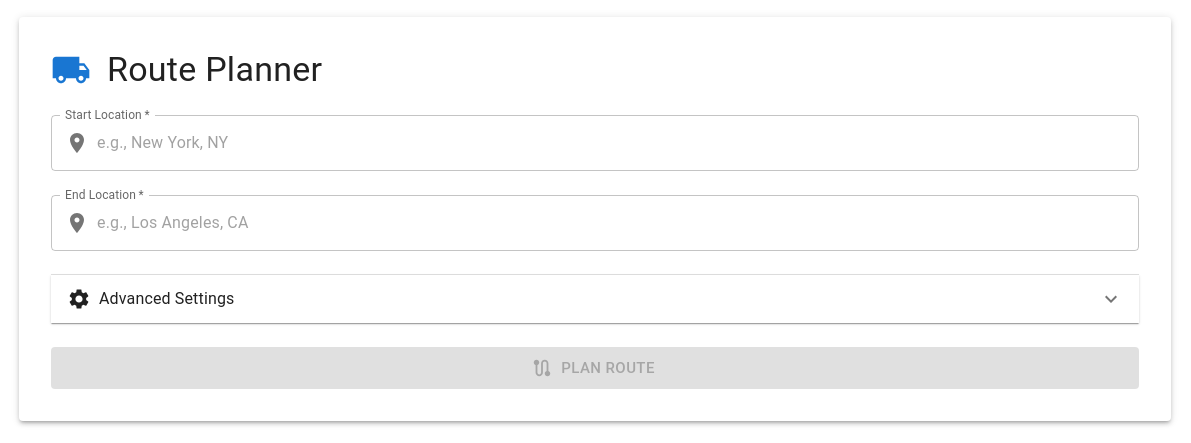
Scenario: RoutePlannerForm › should enable submit button when both locations are filled
Step 1. Type "New York, NY" into the field labelled "Start Location *" → (618, 143), box [97, 115, 1139, 171]
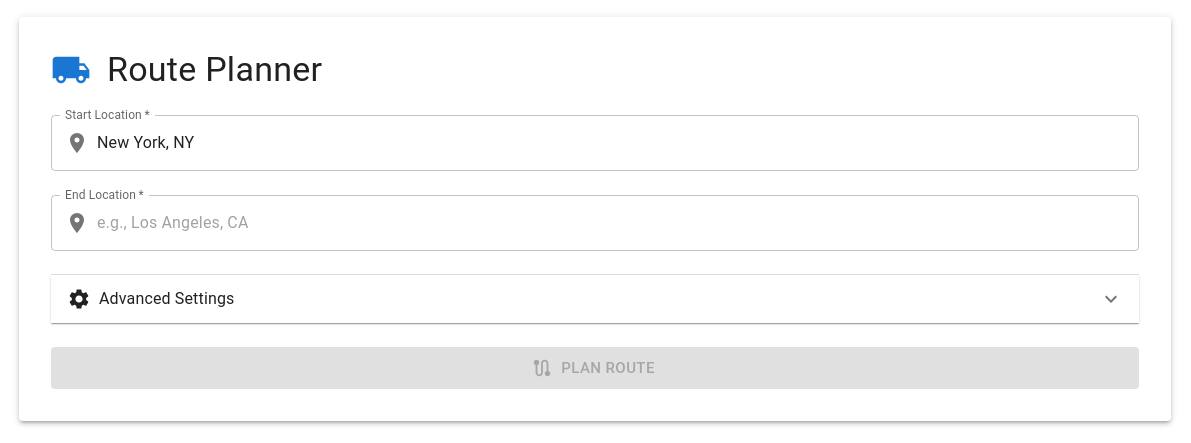
Step 2. Type "Los Angeles, CA" into the field labelled "End Location *" → (618, 223), box [97, 195, 1139, 251]
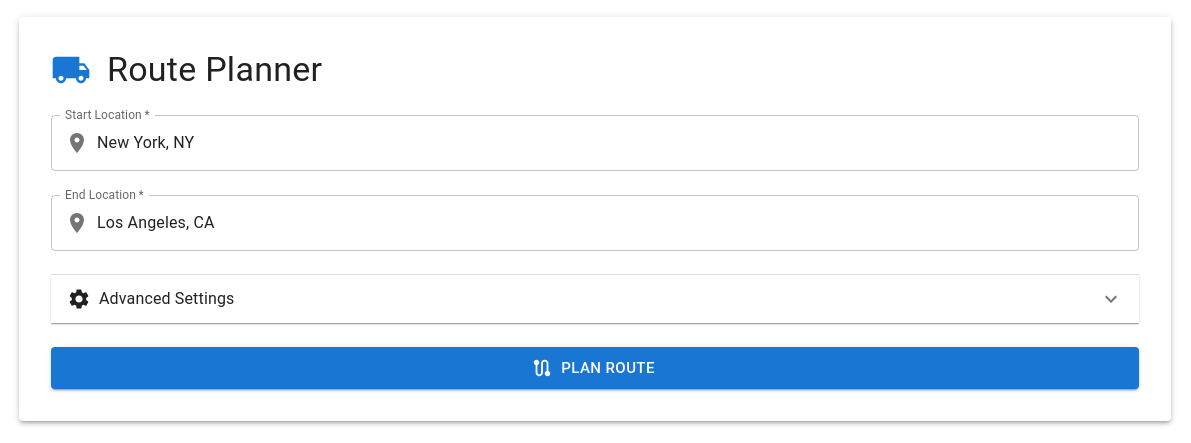
Expected: the button "Plan Route" is enabled, [51, 347, 1139, 389]
